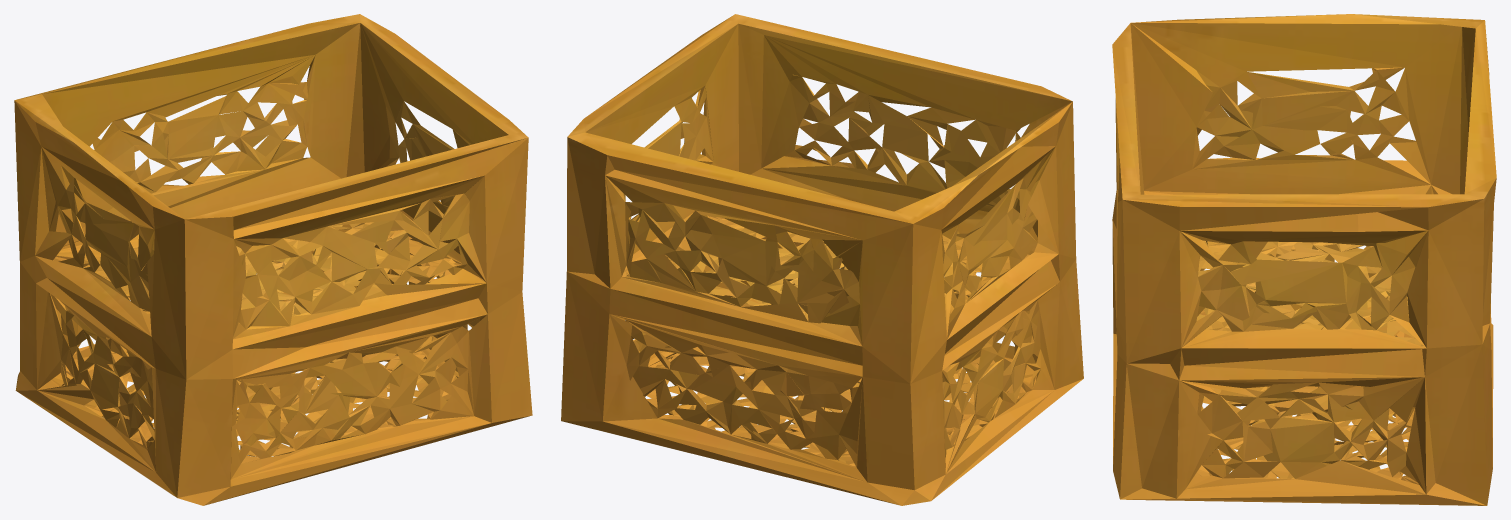
Rendered from crates.glb.
The picture shows the model from 3 angles, left to right: view 1: azimuth 30°, elevation 25°; view 2: azimuth 150°, elevation 25°; view 3: azimuth 270°, elevation 25°; orthographic projection. The views are drawn at different scales.
Parts seen in each view (by area): view 1: crates; view 2: crates; view 3: crates.
Part boxes in pixels (<box>): crates: <box>14,14,532,505</box>; crates: <box>561,14,1083,505</box>; crates: <box>1112,14,1496,505</box>.
Bounding box in the file's own units: 0.8247 × 0.62 × 0.6978.
1 material, 1 textured.
